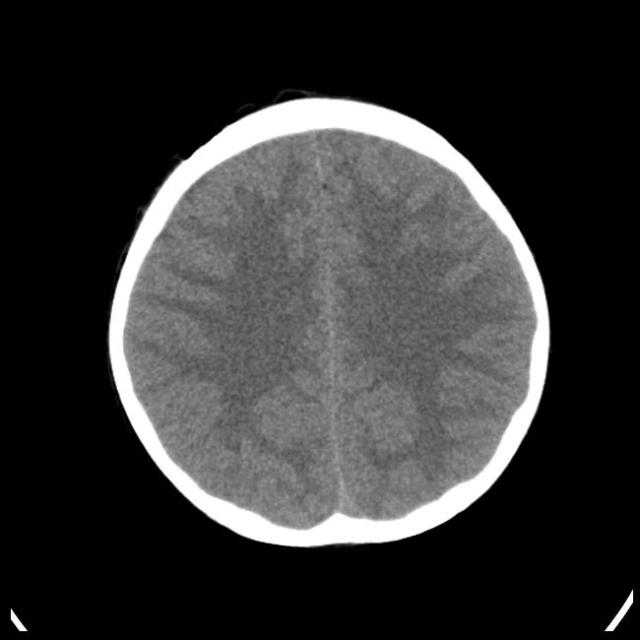lesion: (104, 91, 554, 550)
